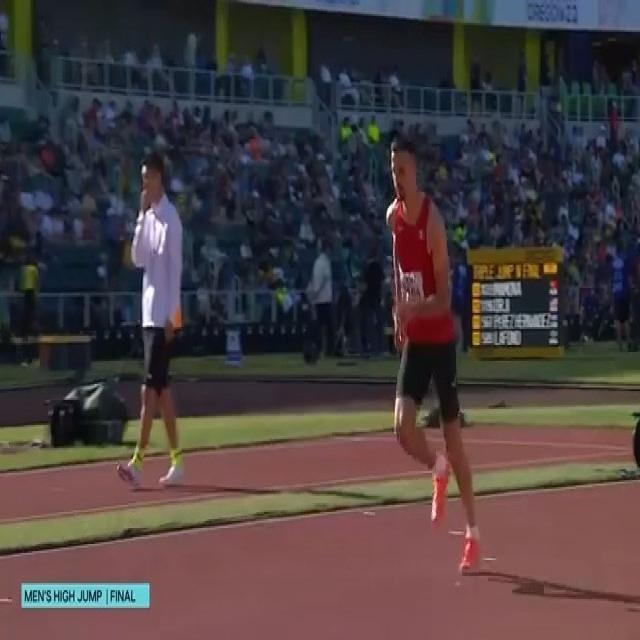run: (387, 131, 486, 574)
